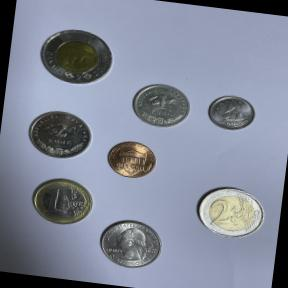1 Euro: (23, 173, 100, 231)
2 Euro: (188, 180, 272, 246)
Canda-10cent-: (202, 88, 262, 138)
Canda-2Dollar-: (31, 22, 122, 93)
Croatia-2Kune-: (21, 104, 96, 166)
US-1cent-: (101, 136, 162, 184)
US-25cent-: (94, 213, 169, 274)
